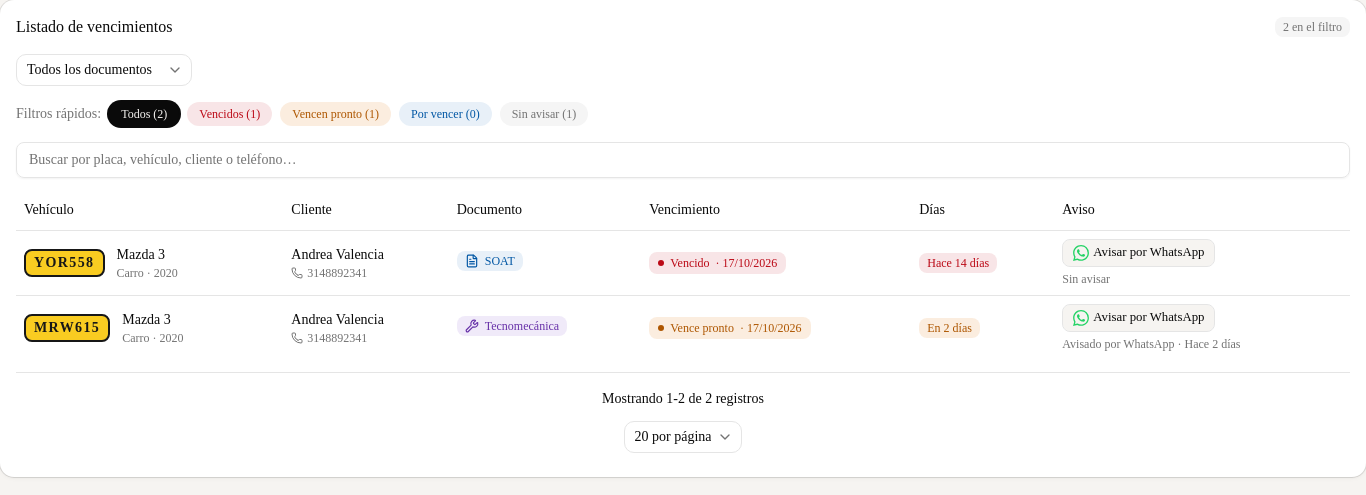
Scenario: VencimientosTable › los chips muestran conteo y filtran
Click the button "Vencidos (1)". click: (230,114)
box: x1=187 y1=102 x2=272 y2=126
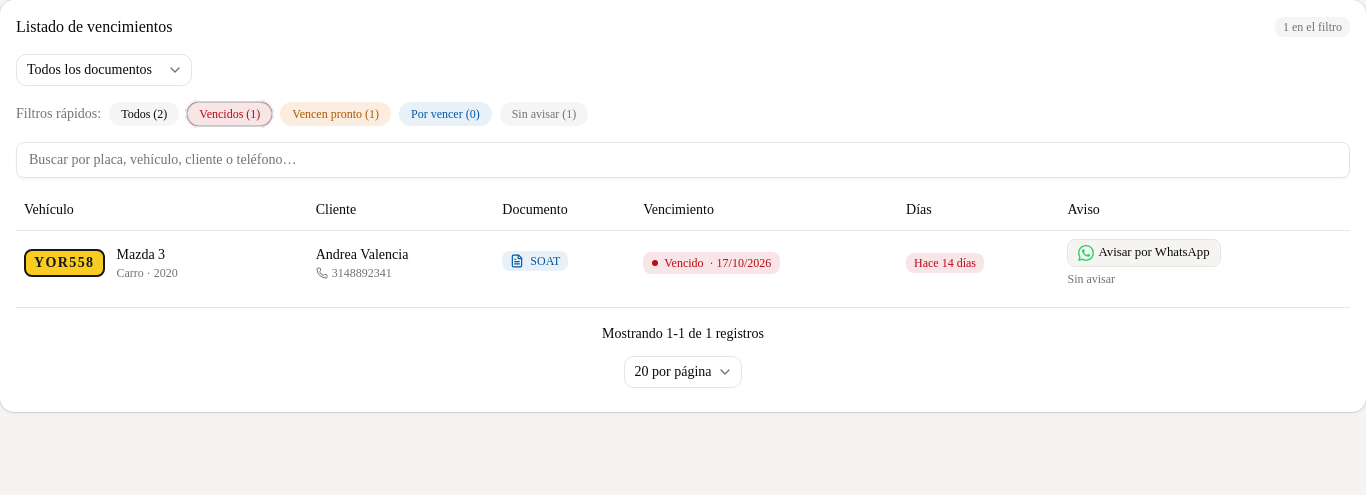
Expected: the text "YOR558" is shown, x1=24 y1=248 x2=104 y2=276
Result: the link "MRW615" is gone
